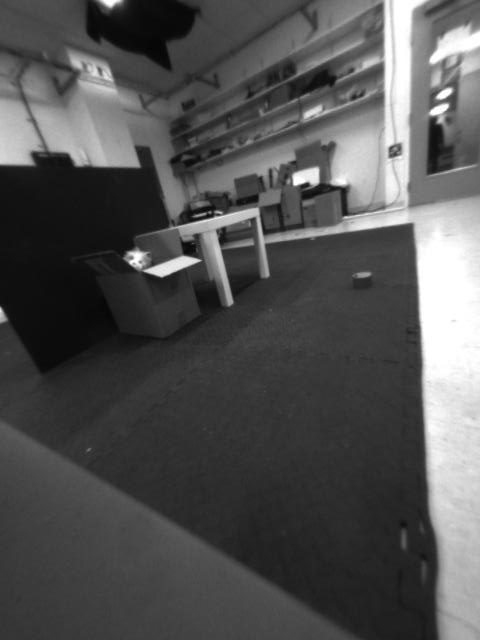dogtoy: (340, 263, 379, 295)
